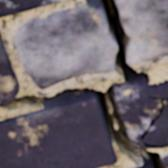brick: (0, 94, 116, 167), (119, 79, 167, 147), (0, 34, 19, 104), (0, 0, 63, 17)
broken_brick: (13, 4, 117, 88), (115, 0, 167, 64), (161, 154, 167, 167), (134, 164, 149, 167)
crack: (0, 0, 166, 167), (141, 96, 167, 138), (143, 142, 161, 146)
